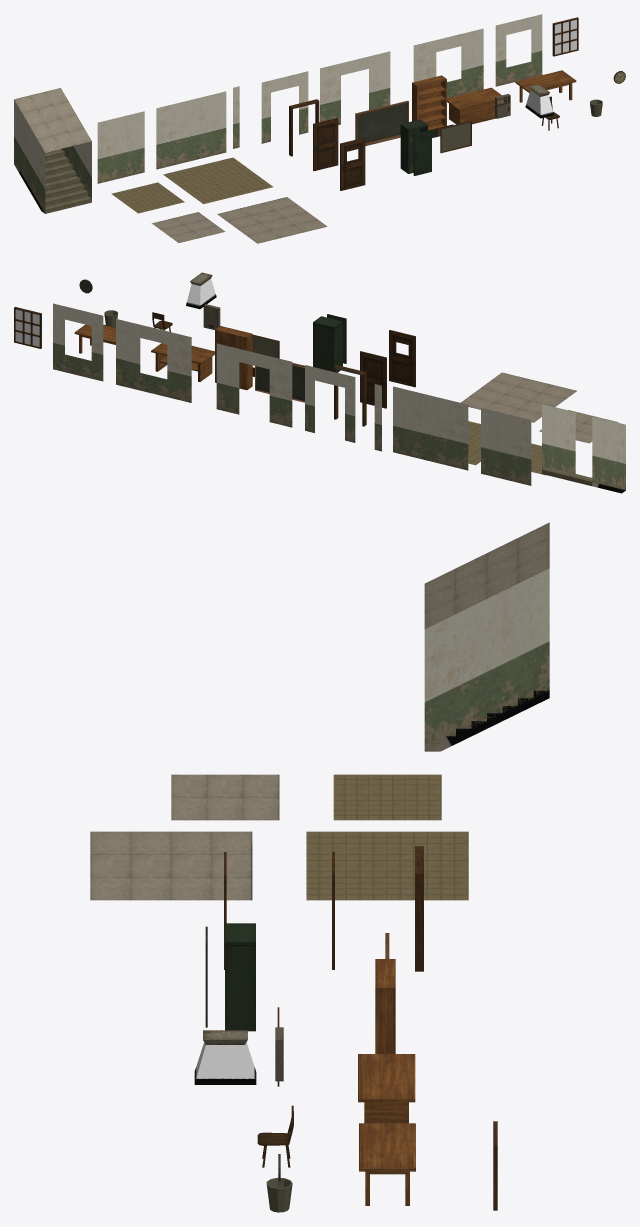
File: Abandoned_School.fbx
3 views of the same model, one above another, from view 1: azimuth 30°, elevation 25°; view 2: azimuth 150°, elevation 25°; view 3: azimuth 270°, elevation 25° (orthographic). The views are drawn at different scales.
Parts seen in each view (by area): view 1: Wall-A, Wall-B, CeilingStairs-B.001, WallWindowFrame-A, Ceiling-A, Floor-A, WallDoorFrame-A, WallWindowFrame-B, Stairs, WallStairs-L, Blackboard, BookShelf (+17 smaller); view 2: Wall-A, WallWindowFrame-A, WallDoorFrame-A, Wall-B, Ceiling-A, WallWindowFrame-B, WallStairs-L, WallStairs-R, WallDoorFrame-B, Locker, Door-B, BookShelf (+15 smaller); view 3: WallStairs-R, Ceiling-A, Floor-A, CeilingStairs-B.001, Ceiling-B, Floor-B, Desk-B, Locker, Desk-A, FakeLight, BookShelf, Stairs (+1 smaller).
Boxes of the visible parts, x1,y1,x2,y2 form: Wall-A: (156, 91, 226, 169); Wall-B: (97, 111, 144, 183); CeilingStairs-B.001: (14, 88, 91, 152); WallWindowFrame-A: (413, 28, 483, 98); Ceiling-A: (217, 197, 327, 243); Floor-A: (163, 157, 272, 203); WallDoorFrame-A: (320, 51, 390, 124); WallWindowFrame-B: (495, 14, 542, 86); Stairs: (14, 149, 91, 213); WallStairs-L: (14, 100, 45, 213); Blackboard: (355, 100, 408, 145); BookShelf: (412, 75, 446, 130); Wall-A: (393, 386, 468, 470); WallWindowFrame-A: (116, 319, 191, 402); WallDoorFrame-A: (216, 343, 292, 427); Wall-B: (481, 408, 531, 485); Ceiling-A: (460, 372, 576, 422); WallWindowFrame-B: (53, 303, 103, 381); WallStairs-L: (592, 416, 625, 490); WallStairs-R: (542, 404, 575, 473); WallDoorFrame-B: (305, 365, 355, 442); Locker: (313, 316, 342, 371); Door-B: (389, 330, 415, 387); BookShelf: (215, 326, 252, 390); WallStairs-R: (424, 568, 549, 750); Ceiling-A: (90, 831, 252, 900); Floor-A: (306, 831, 468, 900); CeilingStairs-B.001: (424, 522, 549, 628); Ceiling-B: (171, 774, 279, 820); Floor-B: (333, 774, 441, 820); Desk-B: (358, 1054, 415, 1123); Locker: (225, 923, 255, 1031); Desk-A: (359, 1123, 415, 1205); FakeLight: (194, 1042, 256, 1084); BookShelf: (375, 959, 395, 1053); Stairs: (424, 690, 549, 751).
Size of the model in its own units: 2353 by 376 by 850.
